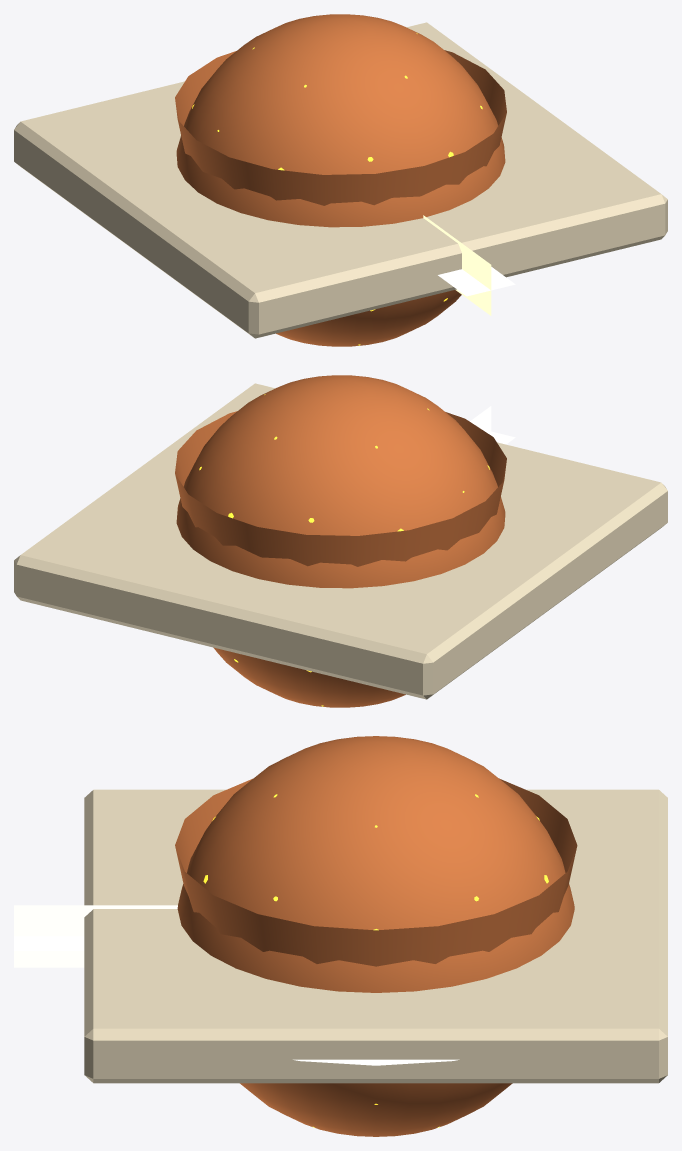
Rendered from combat_fx.glb.
3 renders of one model, top to bottom at view 1: azimuth 30°, elevation 25°; view 2: azimuth 150°, elevation 25°; view 3: azimuth 270°, elevation 25°, orthographic. The views are drawn at different scales.
Visible parts, largest first — view 1: FX_RoofSlab, FX_NukeCap, FX_NukeStem, FX_Bolt; view 2: FX_RoofSlab, FX_NukeCap, FX_NukeStem, FX_Bolt; view 3: FX_RoofSlab, FX_NukeCap, FX_NukeStem, FX_Bolt, FX_MeleeArc.
Boxes of the visible parts, x1=… form: FX_RoofSlab: x1=14, y1=22, x2=667, y2=338; FX_NukeCap: x1=176, y1=14, x2=505, y2=346; FX_NukeStem: x1=175, y1=50, x2=506, y2=205; FX_Bolt: x1=423, y1=215, x2=515, y2=315; FX_RoofSlab: x1=14, y1=383, x2=667, y2=699; FX_NukeCap: x1=176, y1=375, x2=505, y2=707; FX_NukeStem: x1=175, y1=411, x2=506, y2=566; FX_Bolt: x1=470, y1=406, x2=515, y2=444; FX_RoofSlab: x1=84, y1=789, x2=667, y2=1083; FX_NukeCap: x1=177, y1=736, x2=574, y2=1136; FX_NukeStem: x1=175, y1=778, x2=577, y2=966; FX_Bolt: x1=14, y1=905, x2=177, y2=967; FX_MeleeArc: x1=293, y1=1059, x2=459, y2=1065.
Size of the model in its own units: 2.97 by 2 by 3.25.
